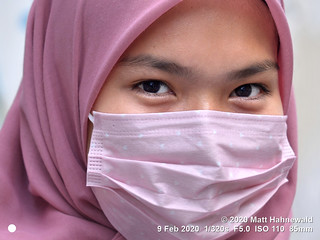surgical: (85, 105, 297, 240)
